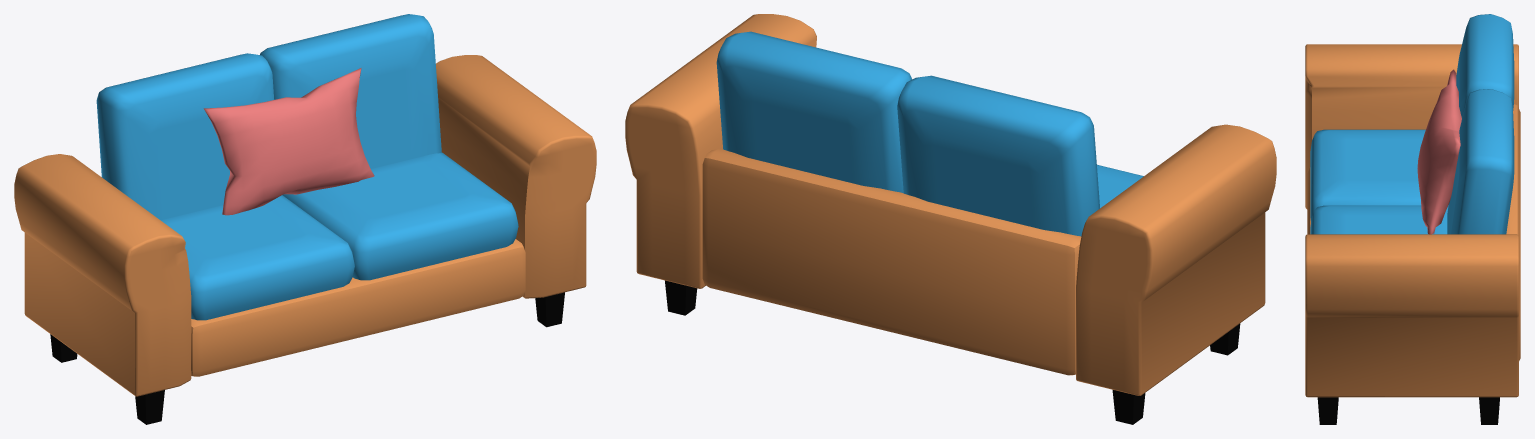
File: SM_petit_sofa.fbx
The picture shows the model from 3 angles, left to right: view 1: azimuth 30°, elevation 25°; view 2: azimuth 150°, elevation 25°; view 3: azimuth 270°, elevation 25°; orthographic projection. The views are drawn at different scales.
Parts seen in each view (by area): view 1: Cube.022, Cube.024, Cube.023, Cube.021, Plane.009, Cube.025; view 2: Cube.022, Cube.021, Cube.024, Cube.025, Cube.023; view 3: Cube.022, Cube.024, Cube.023, Plane.009, Cube.021, Cube.025.
Boxes of the visible parts, box(x1,y1,x2,y2) form: Cube.022: box(14, 55, 596, 396); Cube.024: box(96, 14, 441, 220); Cube.023: box(161, 152, 518, 320); Cube.021: box(191, 239, 525, 376); Plane.009: box(203, 68, 374, 215); Cube.025: box(50, 292, 564, 424); Cube.022: box(625, 14, 1276, 395); Cube.021: box(702, 149, 1081, 375); Cube.024: box(716, 31, 1099, 236); Cube.025: box(665, 280, 1240, 424); Cube.023: box(1097, 164, 1143, 208); Cube.022: box(1305, 44, 1518, 397); Cube.024: box(1447, 14, 1514, 234); Cube.023: box(1310, 129, 1448, 234); Plane.009: box(1417, 69, 1461, 234); Cube.021: box(1307, 104, 1520, 360); Cube.025: box(1317, 397, 1499, 424).
Bounding box in the file's own units: 310 × 161 × 129.
